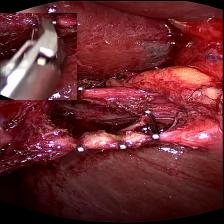Clipper: (0, 12, 77, 99)
